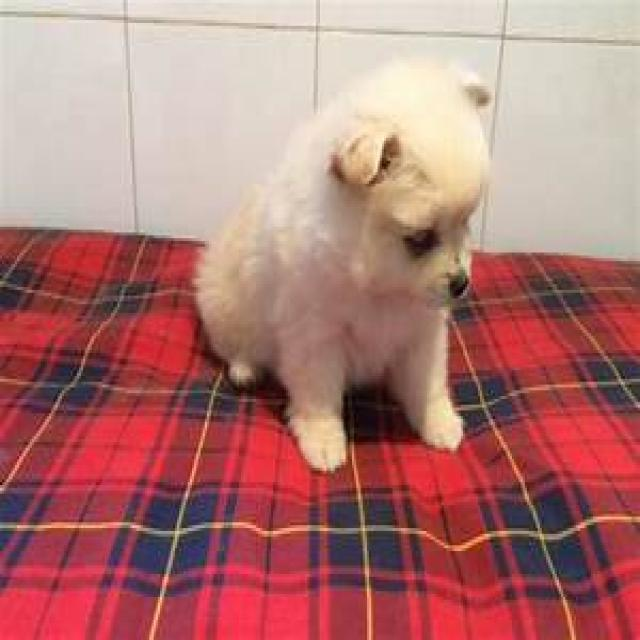dog: (198, 62, 490, 470)
